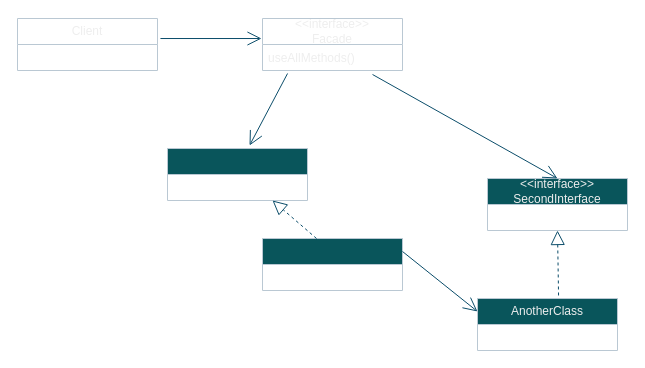
The diagram is 645 pixels wide and 368 high, and some of its shapes have lost their labels. Here are the shapes that lost their labels. From the top down, the centre of each, then its label:
(x=237, y=174): <<interface>> FirstInterface
(x=332, y=264): SomeClass
